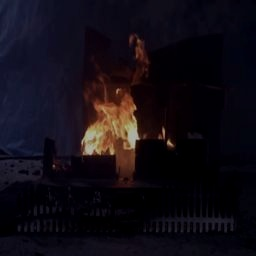fire: (75, 58, 148, 175)
